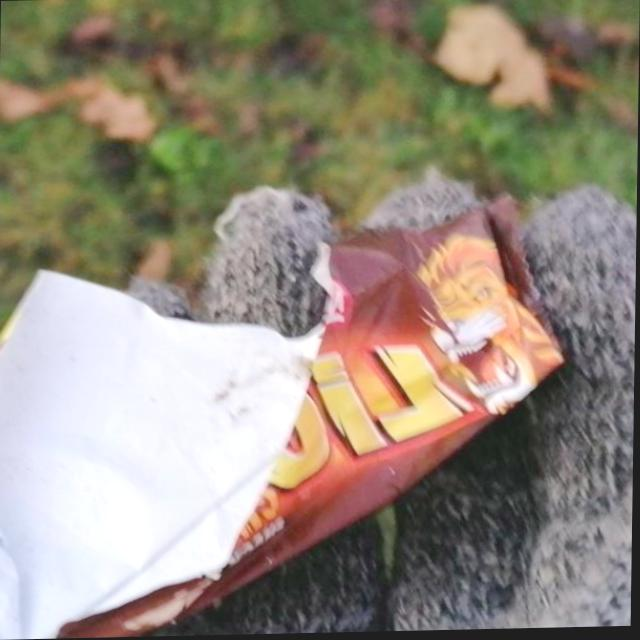Plastic: (0, 185, 573, 640)
